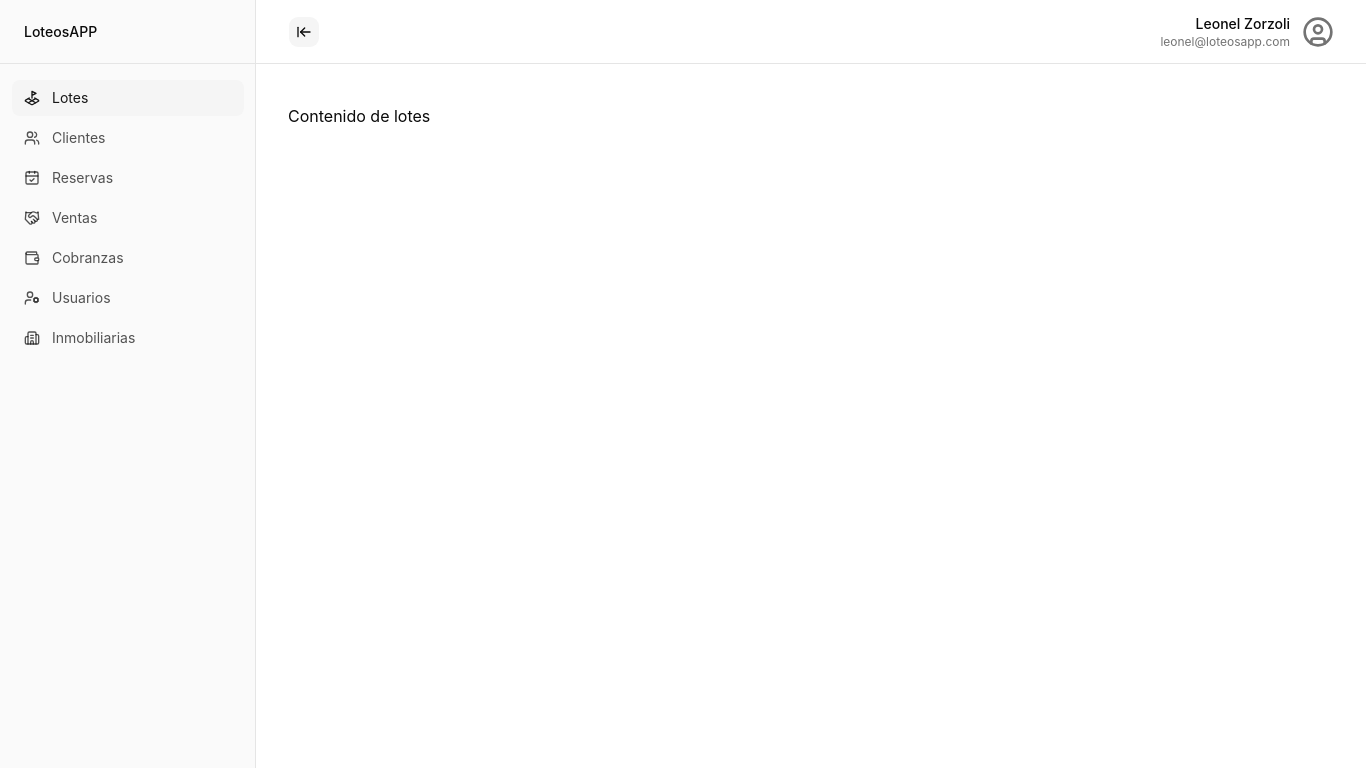
Test: AppLayout › keeps the sidebar open after picking a section on desktop-sized viewports
Click the link "Clientes" at (65, 138), box [24,129,105,146]
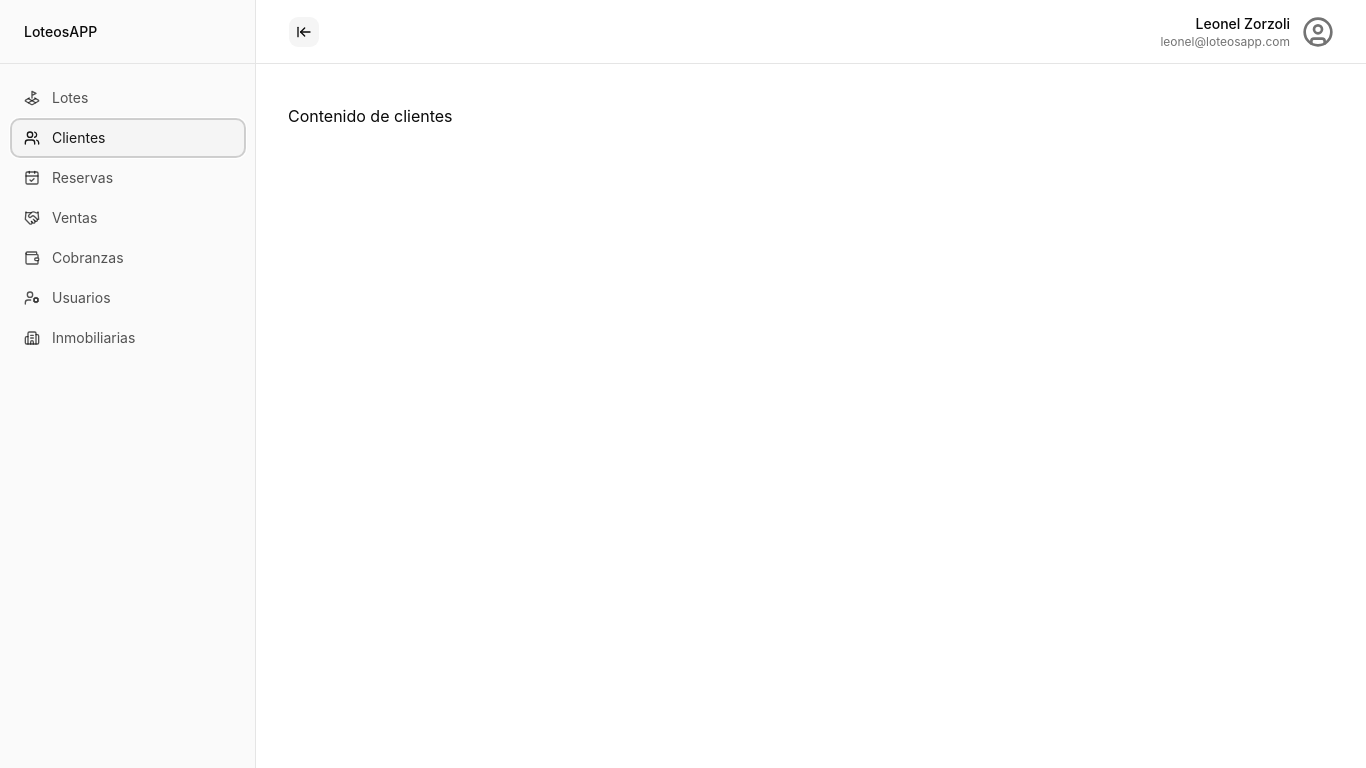
Check: the text "Contenido de clientes" is shown, box [288,106,452,126]
